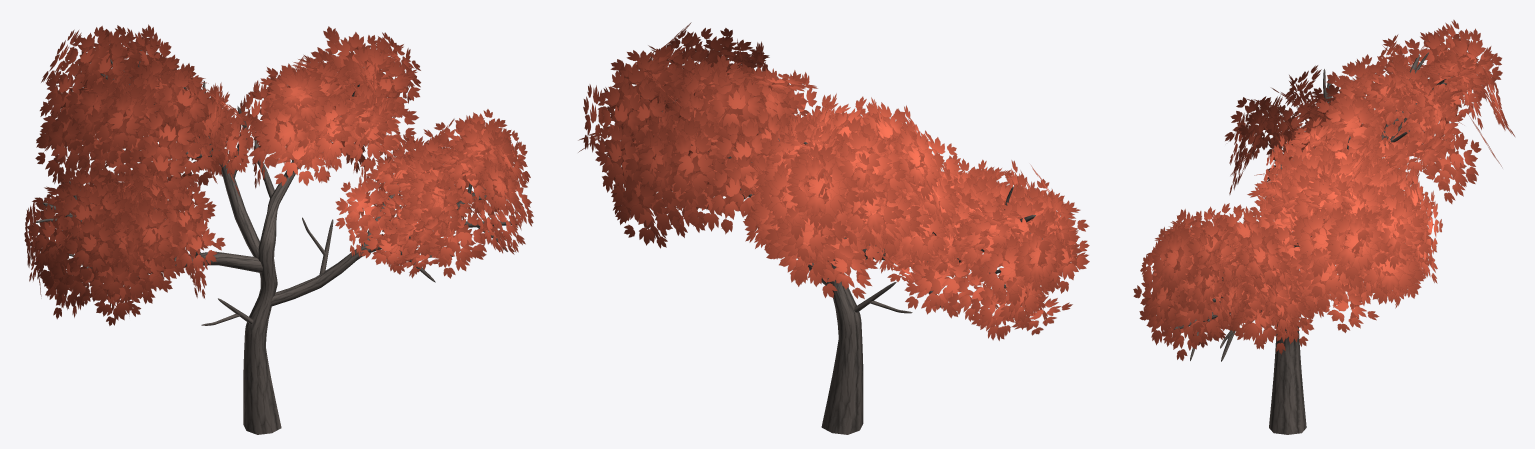
Rendered from MapleTree_3.glb.
3 views of the same model, side by side, from view 1: azimuth 30°, elevation 25°; view 2: azimuth 150°, elevation 25°; view 3: azimuth 270°, elevation 25° (orthographic). The views are drawn at different scales.
Parts seen in each view (by area): view 1: MapleTree_3; view 2: MapleTree_3; view 3: MapleTree_3.
Part boxes in pixels (x1,y1,x2,y2): MapleTree_3: (24,24,533,434); MapleTree_3: (578,22,1089,434); MapleTree_3: (1133,19,1514,434).
Size of the model in its own units: 8.98 by 6.99 by 6.61.
2 materials, 2 textured.
